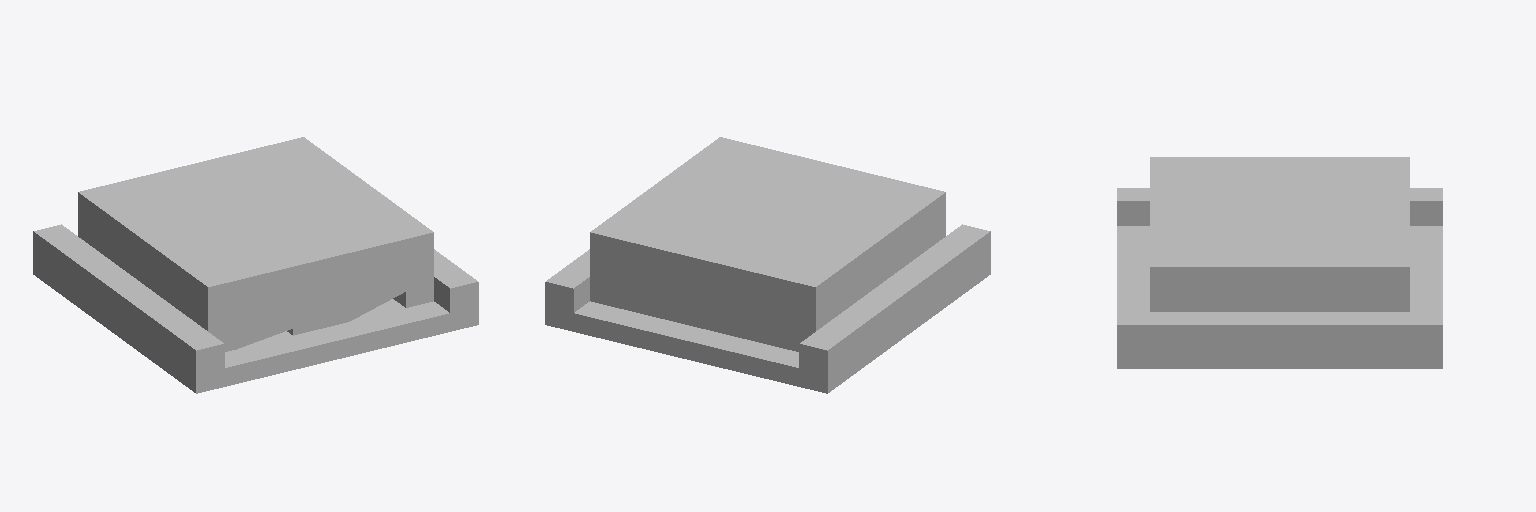
Rendered from Tunnel_double_01.obj.
3 renders of one model, left to right at view 1: azimuth 30°, elevation 25°; view 2: azimuth 150°, elevation 25°; view 3: azimuth 270°, elevation 25°, orthographic.
Visible parts, largest first — view 1: Mesh1 Tunnel_double Model; view 2: Mesh1 Tunnel_double Model; view 3: Mesh1 Tunnel_double Model.
Boxes of the visible parts, x1=… form: Mesh1 Tunnel_double Model: x1=33, y1=137, x2=478, y2=393; Mesh1 Tunnel_double Model: x1=545, y1=137, x2=990, y2=393; Mesh1 Tunnel_double Model: x1=1117, y1=157, x2=1442, y2=368.
Size of the model in its own units: 3 by 0.89 by 3.